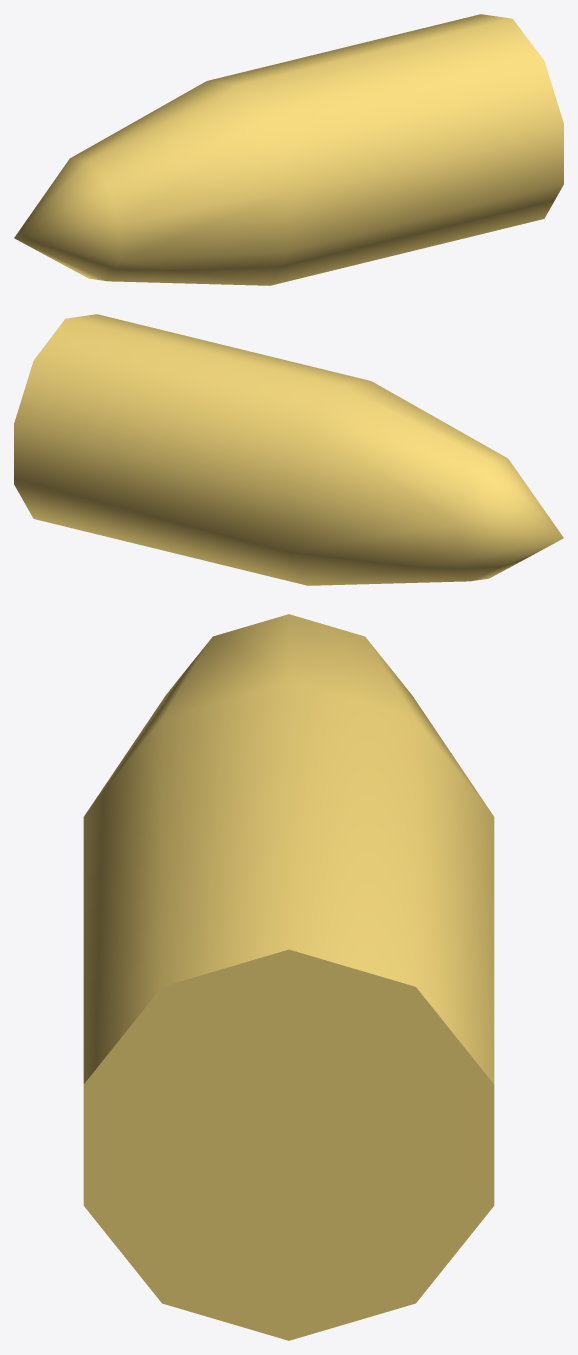
File: Minigun.fbx
3 renders of one model, top to bottom at view 1: azimuth 30°, elevation 25°; view 2: azimuth 150°, elevation 25°; view 3: azimuth 270°, elevation 25°, orthographic. The views are drawn at different scales.
Parts seen in each view (by area): view 1: bullet; view 2: bullet; view 3: bullet.
Part boxes in pixels (left/top/right/bottom): bullet: left=14, top=14, right=563, bottom=285; bullet: left=14, top=314, right=563, bottom=585; bullet: left=83, top=614, right=494, bottom=1340.
Size of the model in its own units: 0.24 by 0.09 by 0.0856.
